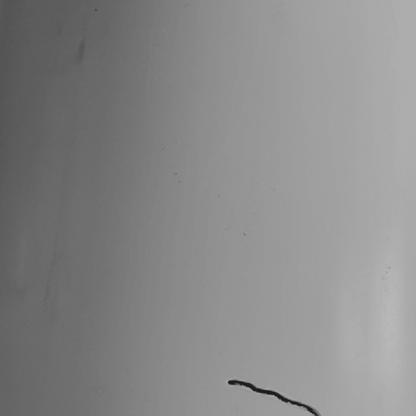fengxi: (225, 379, 321, 416)
